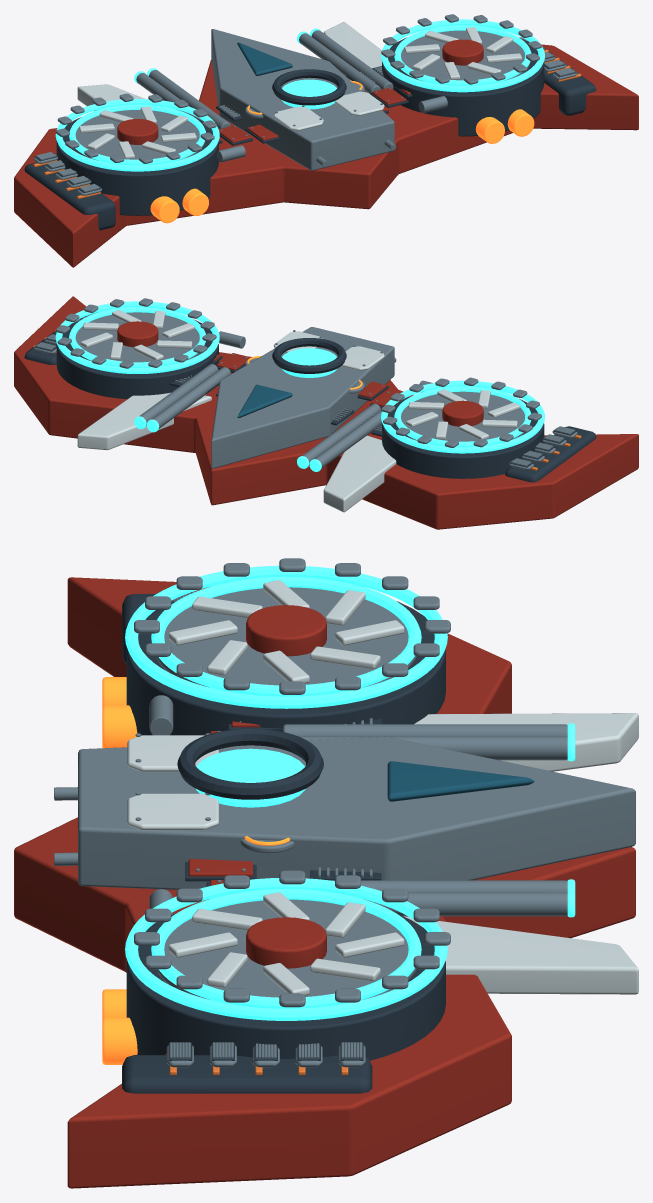
Rendered from Tempest.fbx.
3 views of the same model, one above another, from view 1: azimuth 30°, elevation 25°; view 2: azimuth 150°, elevation 25°; view 3: azimuth 270°, elevation 25° (orthographic). The views are drawn at different scales.
Visible parts, largest first — view 1: Storm crescent.002, Diamond bridge.002, Turbine armored drum.004, Turbine armored drum.005, Recessed turbine well.005, Recessed turbine well.004, Turbine ion ring.009, Turbine ion ring.011, Missile magazine.004, Turbine ion ring.008, Turbine ion ring.010, Reactor cage.002 (+17 smaller); view 2: Storm crescent.002, Diamond bridge.002, Turbine armored drum.004, Turbine armored drum.005, Forward stabilizer.004, Forward stabilizer.005, Recessed turbine well.005, Recessed turbine well.004, Turbine ion ring.011, Turbine ion ring.009, Turbine ion ring.008, Turbine ion ring.010 (+15 smaller); view 3: Storm crescent.002, Diamond bridge.002, Turbine armored drum.005, Forward stabilizer.005, Turbine armored drum.004, Recessed turbine well.004, Recessed turbine well.005, Missile magazine.005, Turbine ion ring.009, Turbine ion ring.011, Turbine ion ring.008, Turbine ion ring.010 (+24 smaller).
Part boxes in pixels (x1,y1,x2,y2): Storm crescent.002: (14, 44, 638, 267); Diamond bridge.002: (211, 29, 394, 170); Turbine armored drum.004: (56, 117, 218, 215); Turbine armored drum.005: (382, 37, 544, 136); Recessed turbine well.005: (399, 30, 530, 80); Recessed turbine well.004: (73, 110, 205, 160); Turbine ion ring.009: (55, 98, 219, 171); Turbine ion ring.011: (381, 19, 544, 92); Missile magazine.004: (24, 162, 115, 230); Turbine ion ring.008: (69, 104, 205, 165); Turbine ion ring.010: (394, 25, 531, 85); Reactor cage.002: (272, 69, 346, 105); Storm crescent.002: (14, 296, 638, 529); Diamond bridge.002: (211, 327, 394, 468); Turbine armored drum.004: (382, 399, 544, 478); Turbine armored drum.005: (56, 319, 218, 399); Forward stabilizer.004: (323, 435, 396, 512); Forward stabilizer.005: (77, 392, 211, 450); Recessed turbine well.005: (70, 312, 205, 362); Recessed turbine well.004: (395, 391, 530, 441); Turbine ion ring.011: (55, 301, 219, 373); Turbine ion ring.009: (381, 380, 544, 453); Turbine ion ring.008: (394, 386, 531, 447); Turbine ion ring.010: (69, 307, 205, 367); Storm crescent.002: (14, 577, 635, 1188); Diamond bridge.002: (78, 736, 635, 889); Turbine armored drum.005: (126, 913, 445, 1060); Forward stabilizer.005: (404, 916, 638, 994); Turbine armored drum.004: (126, 601, 445, 735); Recessed turbine well.004: (156, 587, 416, 687); Recessed turbine well.005: (156, 899, 416, 999); Missile magazine.005: (122, 1055, 372, 1093); Turbine ion ring.009: (125, 565, 447, 708); Turbine ion ring.011: (125, 878, 447, 1020); Turbine ion ring.008: (151, 576, 421, 696); Turbine ion ring.010: (151, 889, 421, 1008).
Bounding box in the file's own units: 1079 × 151 × 525.
